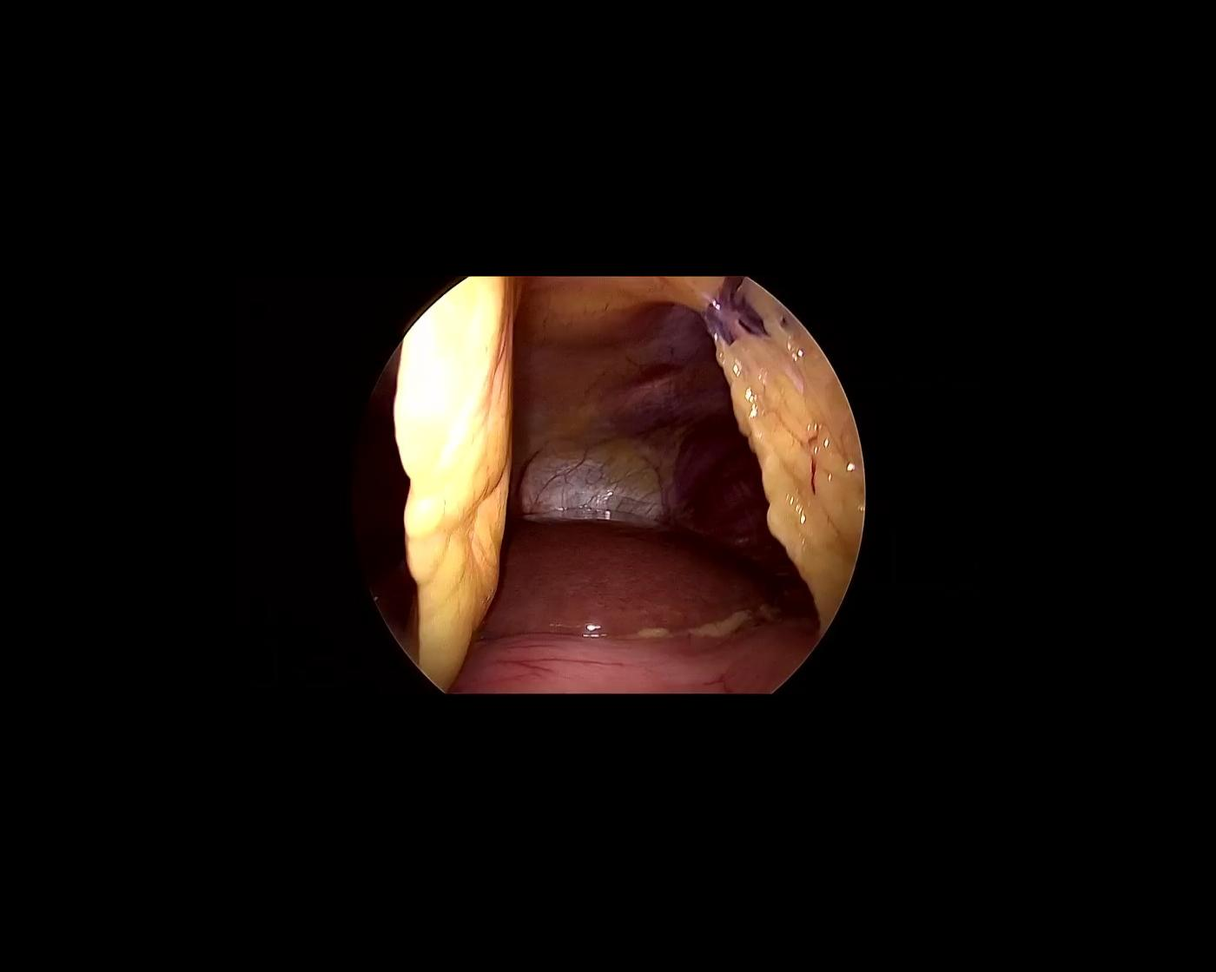Liver: (474, 516, 787, 637)
